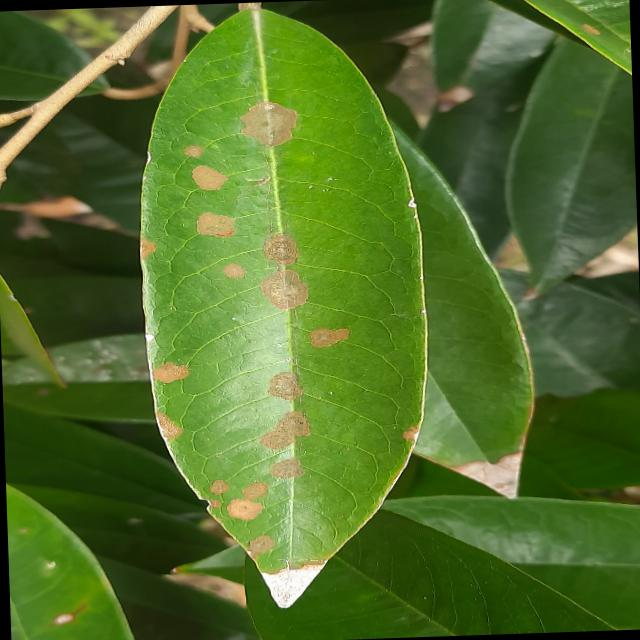Algal Leaf Spot: (126, 0, 449, 622)
